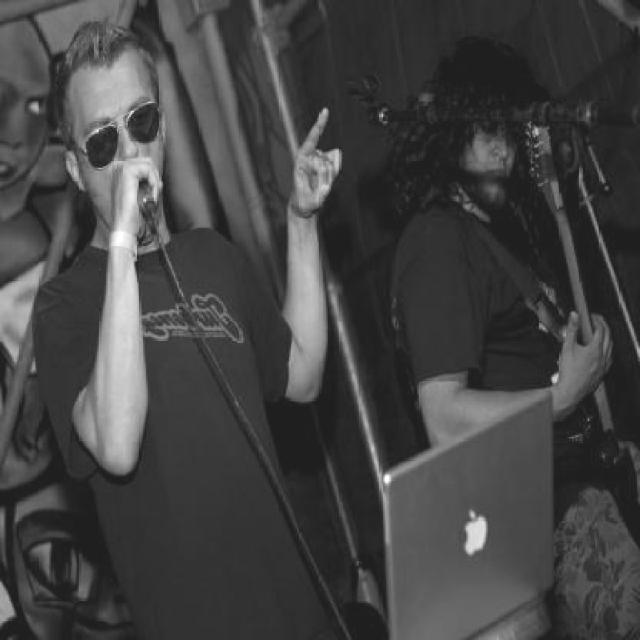face_nomask: (476, 123, 526, 189)
glasses: (77, 80, 166, 160)
hand_noglove: (548, 303, 614, 411), (285, 104, 347, 218), (106, 152, 169, 230)
head_nohelmet: (60, 0, 152, 74)
person: (0, 29, 359, 640), (378, 55, 640, 640)
